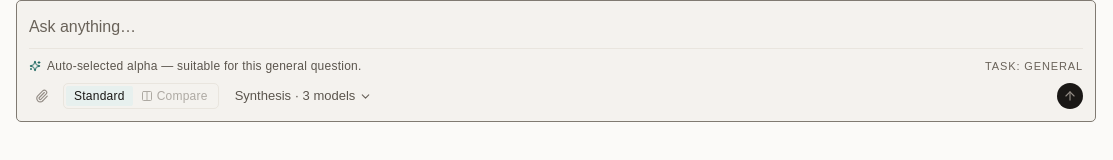
Scenario: Composer › disables send until there is something to send
The image size is (1113, 160).
Expected: the button named "send message" is disabled, [1057,83,1083,109]
Step 1. Type "x" into the text box labelled "Ask anything…" → (556, 26), box [29,13,1083,40]
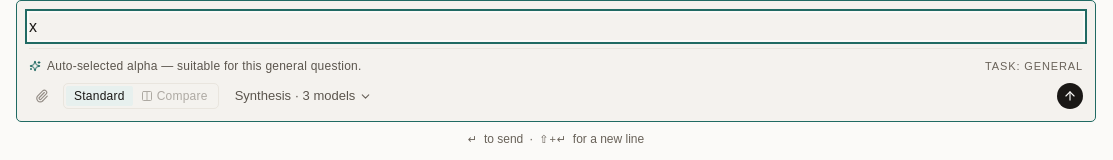
Result: the button named "send message" is enabled at [1057,83,1083,109]
